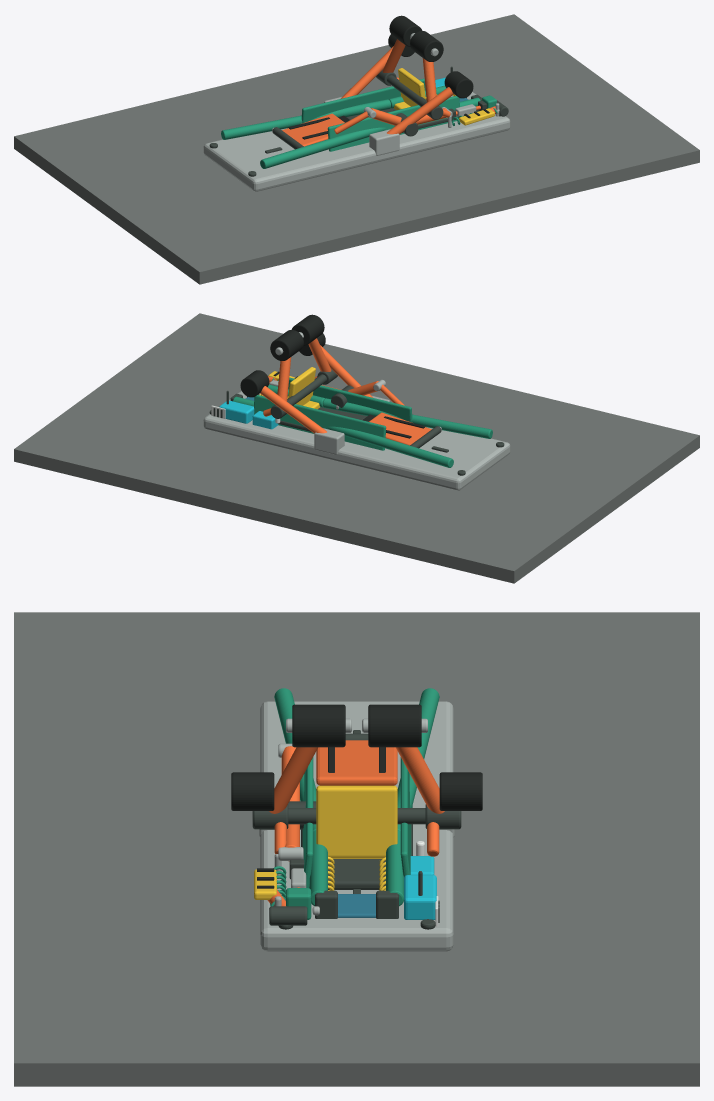
Rendered from parking_assist_device_compact_smart.glb.
The picture shows the model from 3 angles, top to bottom: view 1: azimuth 30°, elevation 25°; view 2: azimuth 150°, elevation 25°; view 3: azimuth 270°, elevation 25°; orthographic projection. The views are drawn at different scales.
Parts seen in each view (by area): view 1: 展示地面, 低矮嵌入式底板, 低位渐缩导轨.001, 低位导轨立板, 低位渐缩导轨, 低位导轨立板.001, 嵌入式承压板, 折叠式防倾倒侧撑, 包胶夹轮, 侧撑加强座, 包胶夹轮.001, 防倾倒包胶滚轮 (+3 smaller); view 2: 展示地面, 低矮嵌入式底板, 低位导轨立板.001, 低位渐缩导轨, 低位渐缩导轨.001, 低位导轨立板, 嵌入式承压板, 折叠式防倾倒侧撑.001, 包胶夹轮.001, 侧撑加强座.001, 包胶夹轮, LoRa蓝牙无线节点 (+4 smaller); view 3: 展示地面, 低矮嵌入式底板, 助力推轮板, 嵌入式承压板, 包胶夹轮, 包胶夹轮.001, 防倾倒包胶滚轮, 防倾倒包胶滚轮.001, 中央检修盖板, LoRa蓝牙无线节点, 夹爪摆臂, 夹爪摆臂.001 (+9 smaller).
Part boxes in pixels (bbox=[...]): 展示地面: bbox=[14, 14, 699, 284]; 低矮嵌入式底板: bbox=[203, 92, 510, 191]; 低位渐缩导轨.001: bbox=[221, 99, 390, 139]; 低位导轨立板: bbox=[327, 96, 459, 151]; 低位渐缩导轨: bbox=[260, 127, 386, 168]; 低位导轨立板.001: bbox=[301, 78, 425, 122]; 嵌入式承压板: bbox=[282, 113, 344, 146]; 折叠式防倾倒侧撑: bbox=[387, 87, 453, 134]; 包胶夹轮: bbox=[410, 31, 443, 61]; 侧撑加强座: bbox=[369, 129, 399, 155]; 包胶夹轮.001: bbox=[389, 15, 422, 46]; 防倾倒包胶滚轮: bbox=[444, 71, 473, 98]; 展示地面: bbox=[14, 313, 699, 583]; 低矮嵌入式底板: bbox=[203, 391, 510, 490]; 低位导轨立板.001: bbox=[254, 395, 386, 450]; 低位渐缩导轨: bbox=[323, 398, 492, 438]; 低位渐缩导轨.001: bbox=[327, 426, 453, 467]; 低位导轨立板: bbox=[288, 377, 412, 421]; 嵌入式承压板: bbox=[369, 412, 431, 445]; 折叠式防倾倒侧撑.001: bbox=[260, 386, 326, 433]; 包胶夹轮.001: bbox=[270, 330, 303, 360]; 侧撑加强座.001: bbox=[314, 428, 344, 454]; 包胶夹轮: bbox=[291, 314, 324, 345]; LoRa蓝牙无线节点: bbox=[219, 400, 254, 423]; 展示地面: bbox=[14, 612, 699, 1086]; 低矮嵌入式底板: bbox=[260, 701, 453, 951]; 助力推轮板: bbox=[316, 785, 397, 857]; 嵌入式承压板: bbox=[316, 740, 397, 785]; 包胶夹轮: bbox=[292, 704, 345, 747]; 包胶夹轮.001: bbox=[368, 704, 421, 747]; 防倾倒包胶滚轮: bbox=[231, 772, 274, 810]; 防倾倒包胶滚轮.001: bbox=[439, 772, 482, 810]; 中央检修盖板: bbox=[301, 824, 412, 889]; LoRa蓝牙无线节点: bbox=[404, 875, 436, 919]; 夹爪摆臂: bbox=[269, 747, 317, 813]; 夹爪摆臂.001: bbox=[396, 747, 444, 813].
Bounding box in the file's own units: 2.1 × 0.452 × 1.35.
